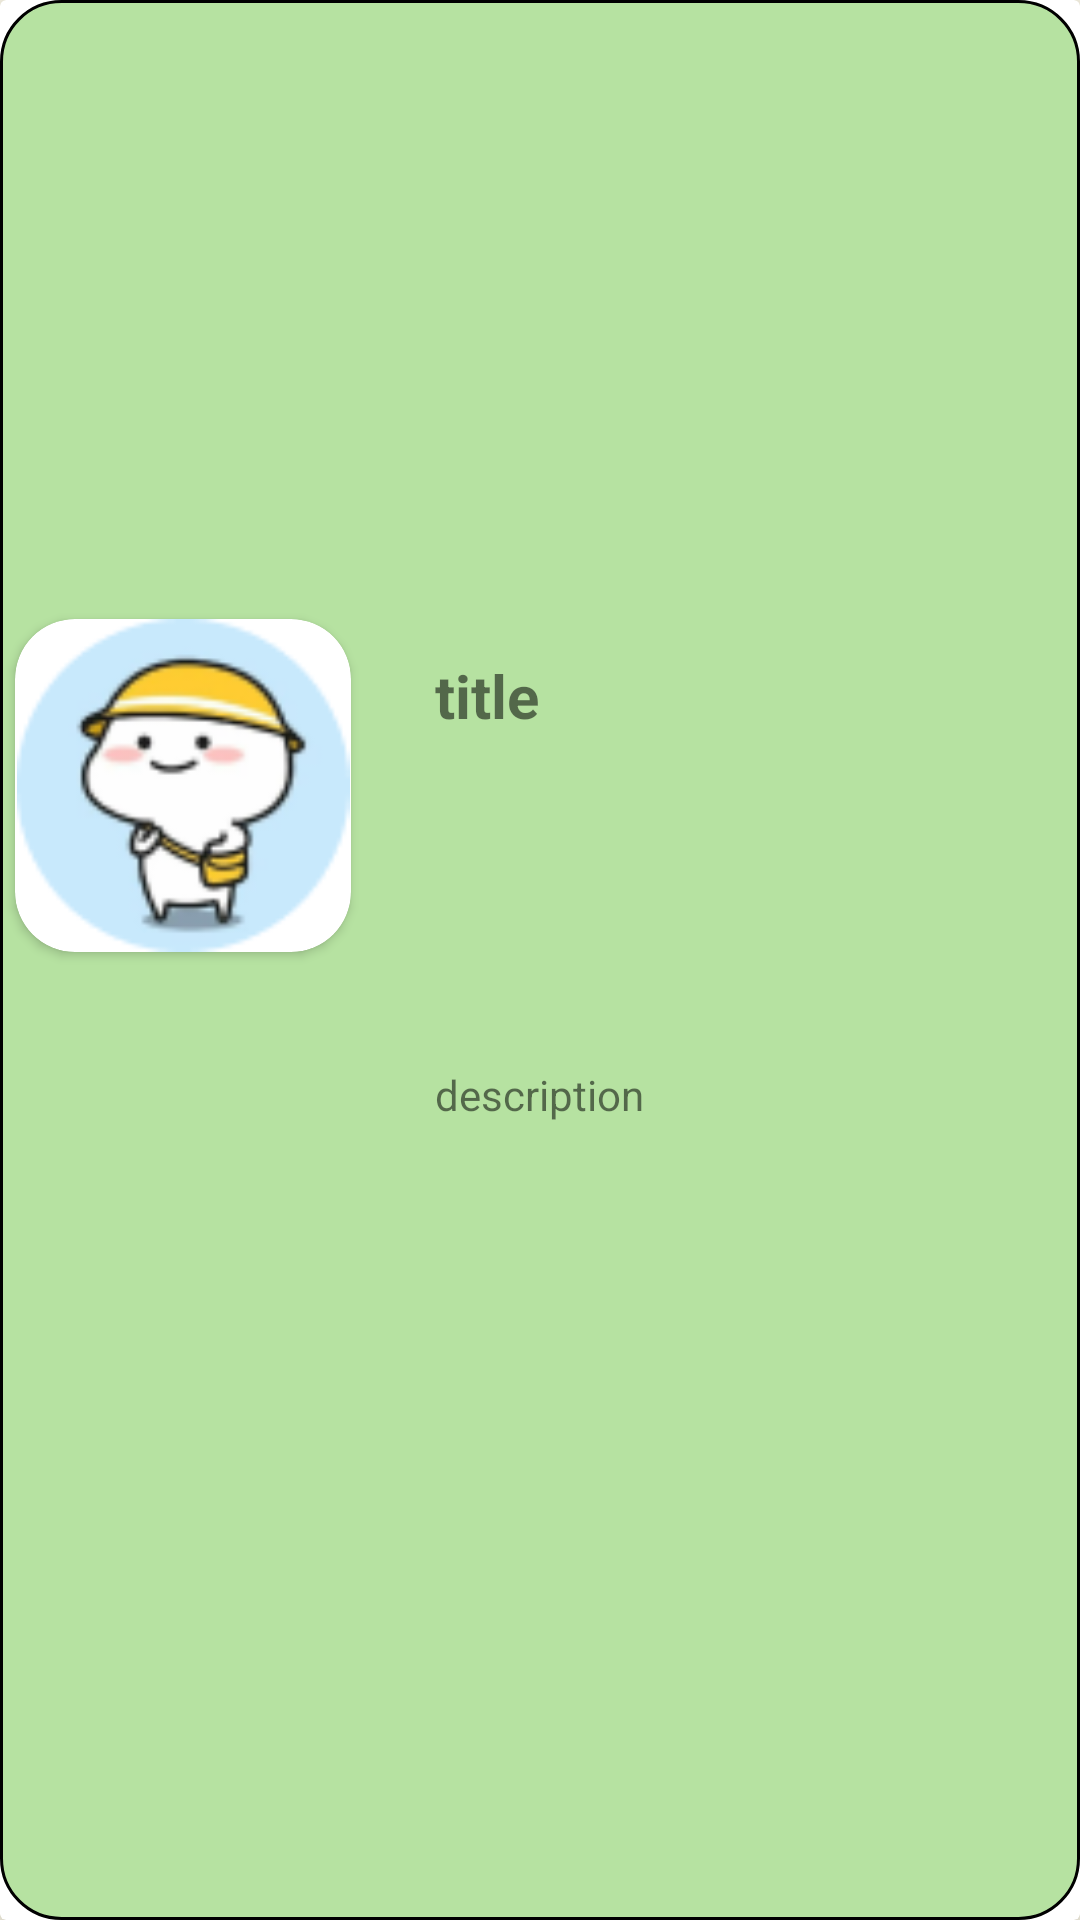

Where to tap for icons on this 1080*1920 app screen, as point (x, y):
profile: point (183, 785)
